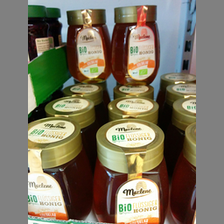honey: (96, 119, 174, 223), (28, 118, 93, 223), (64, 5, 111, 82), (113, 6, 158, 83)
